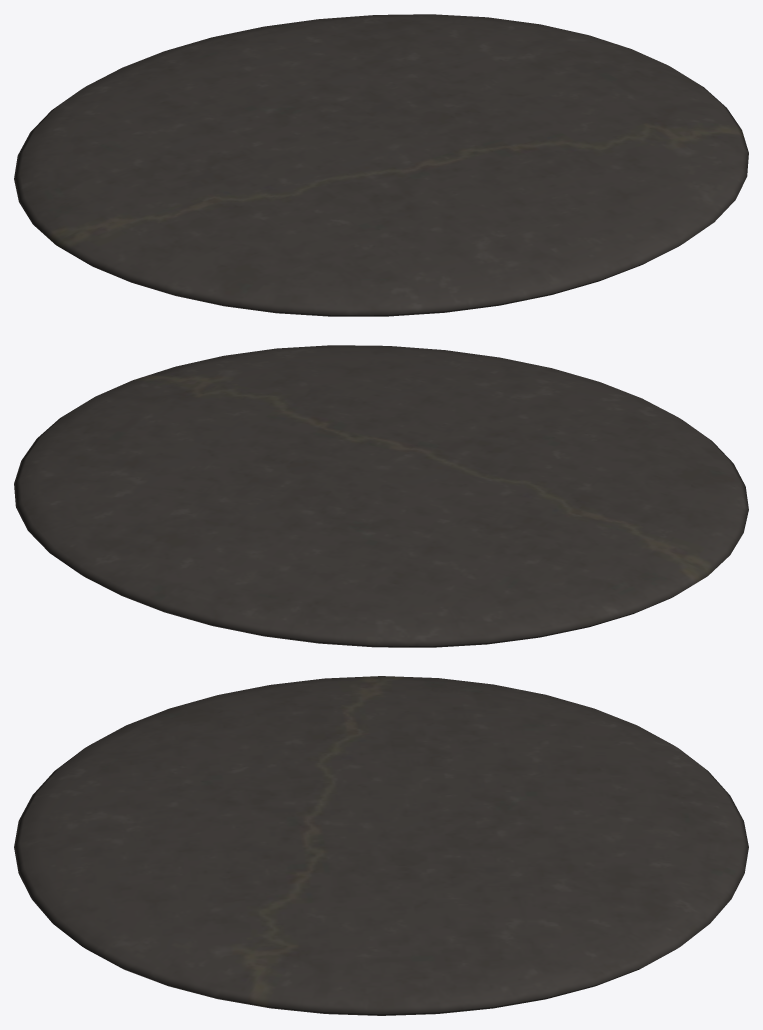
Rendered from master_disc_02.glb.
The picture shows the model from 3 angles, top to bottom: view 1: azimuth 30°, elevation 25°; view 2: azimuth 150°, elevation 25°; view 3: azimuth 270°, elevation 25°; orthographic projection. The views are drawn at different scales.
Visible parts, largest first — view 1: master_disc_02; view 2: master_disc_02; view 3: master_disc_02.
Part boxes in pixels (bbox=[...]): master_disc_02: bbox=[14, 14, 748, 316]; master_disc_02: bbox=[14, 345, 748, 647]; master_disc_02: bbox=[14, 676, 748, 1015].
Size of the model in its own units: 0.0932 by 0.0063 by 0.0861.
Materials: 1 (1 with a texture image).
